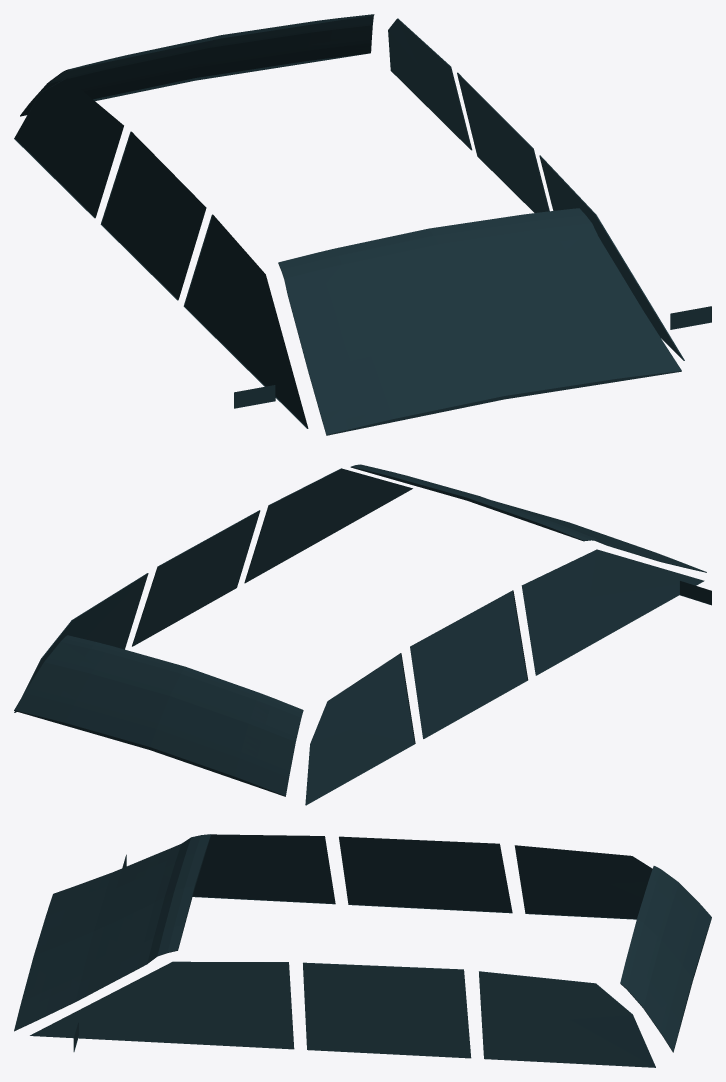
The model's file is car-passat-b7--glass.glb.
3 renders of one model, top to bottom at view 1: azimuth 30°, elevation 25°; view 2: azimuth 150°, elevation 25°; view 3: azimuth 270°, elevation 25°, orthographic. The views are drawn at different scales.
Parts seen in each view (by area): view 1: car-passat-b7; view 2: car-passat-b7; view 3: car-passat-b7.
Part boxes in pixels (bbox=[...]): car-passat-b7: bbox=[14, 14, 711, 435]; car-passat-b7: bbox=[14, 464, 711, 805]; car-passat-b7: bbox=[14, 834, 711, 1067].
Size of the model in its own units: 2.29 by 0.4676 by 3.49.
